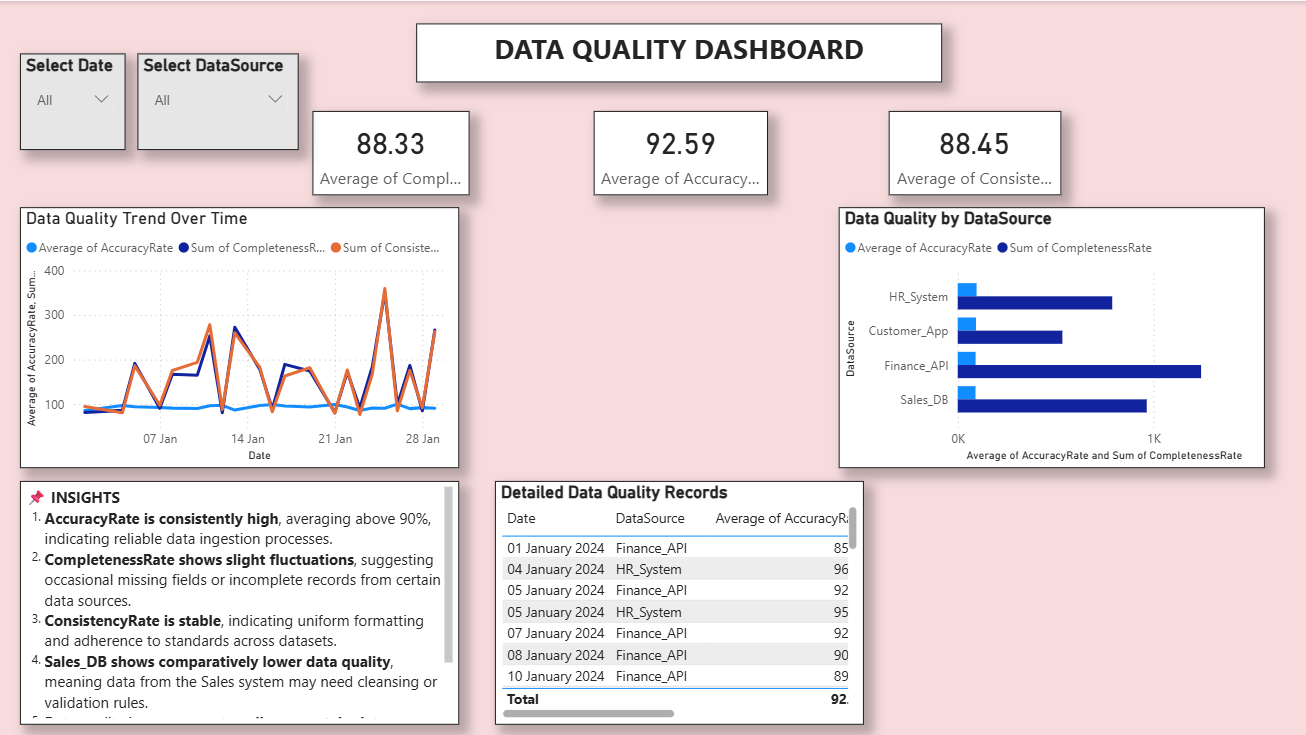

Layout of this report page (visuals, bound fields, positions):
{"tool":"powerbi","page":{"name":"Page 1","canvas":[1280,720],"ordinal":0},"visuals":[{"type":"card","fields":{"Values":["Avg(DataQuality_small.AccuracyRate)"]},"box":[580.4,107,170.2,82.3],"z":0},{"type":"card","fields":{"Values":["Avg(DataQuality_small.CompletenessRate)"]},"box":[306,107,153.7,82.3],"z":1000},{"type":"card","fields":{"Values":["Avg(DataQuality_small.ConsistencyRate)"]},"box":[870,107,168.8,82.3],"z":2000},{"type":"lineChart","title":"Data Quality Trend Over Time","fields":{"Category":["DataQuality_small.Date"],"Y":["Avg(DataQuality_small.AccuracyRate)","Sum(DataQuality_small.CompletenessRate)","Sum(DataQuality_small.ConsistencyRate)"]},"box":[19.6,201.8,429.2,255.6],"z":3000},{"type":"clusteredBarChart","title":"Data Quality by DataSource","fields":{"Category":["DataQuality_small.DataSource"],"Y":["Avg(DataQuality_small.AccuracyRate)","Sum(DataQuality_small.CompletenessRate)"]},"box":[820.5,201.8,417,255.6],"z":4000},{"type":"tableEx","title":"Detailed Data Quality Records","fields":{"Values":["DataQuality_small.Date","DataQuality_small.DataSource","Avg(DataQuality_small.AccuracyRate)","Sum(DataQuality_small.CompletenessRate)","Sum(DataQuality_small.ConsistencyRate)"]},"box":[484.2,469.6,360.7,238.5],"z":5000},{"type":"textbox","box":[407.5,22,514.6,57.6],"z":6000},{"type":"slicer","title":"Select Date","fields":{"Values":["DataQuality_small.Date"]},"box":[19.2,50.8,102.9,94.7],"z":7000},{"type":"slicer","title":"Select DataSource ","fields":{"Values":["DataQuality_small.DataSource"]},"box":[134.5,50.8,157.8,94.7],"z":8000},{"type":"textbox","box":[19.6,469.6,429.2,238.5],"z":9000}]}

Visuals, with their boxes in screenshot pixels (x1, y1, x2, y2), scaled from the page's 1280x720 canvas onto the 1306x735 screenshot:
card - Avg(DataQuality_small.AccuracyRate): (left=592, top=109, right=766, bottom=193)
card - Avg(DataQuality_small.CompletenessRate): (left=312, top=109, right=469, bottom=193)
card - Avg(DataQuality_small.ConsistencyRate): (left=888, top=109, right=1060, bottom=193)
"Data Quality Trend Over Time" lineChart: (left=20, top=206, right=458, bottom=467)
"Data Quality by DataSource" clusteredBarChart: (left=837, top=206, right=1263, bottom=467)
"Detailed Data Quality Records" tableEx: (left=494, top=479, right=862, bottom=723)
textbox: (left=416, top=22, right=941, bottom=81)
"Select Date" slicer: (left=20, top=52, right=125, bottom=149)
"Select DataSource " slicer: (left=137, top=52, right=298, bottom=149)
textbox: (left=20, top=479, right=458, bottom=723)
